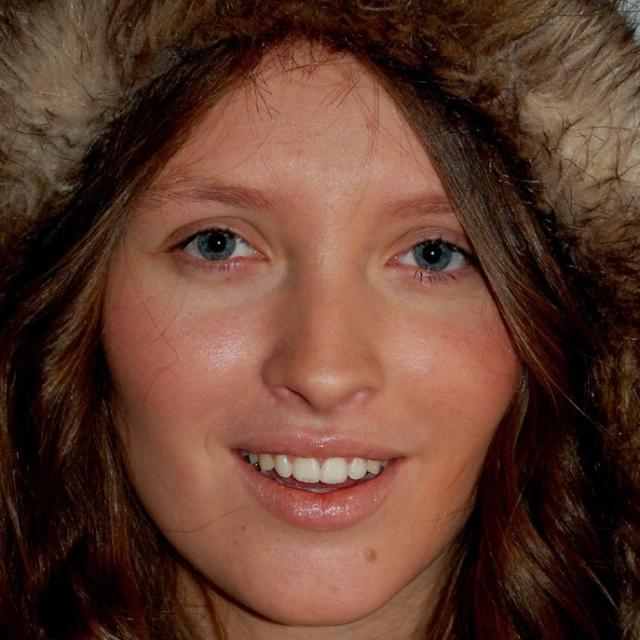Normal: (103, 45, 525, 623)
